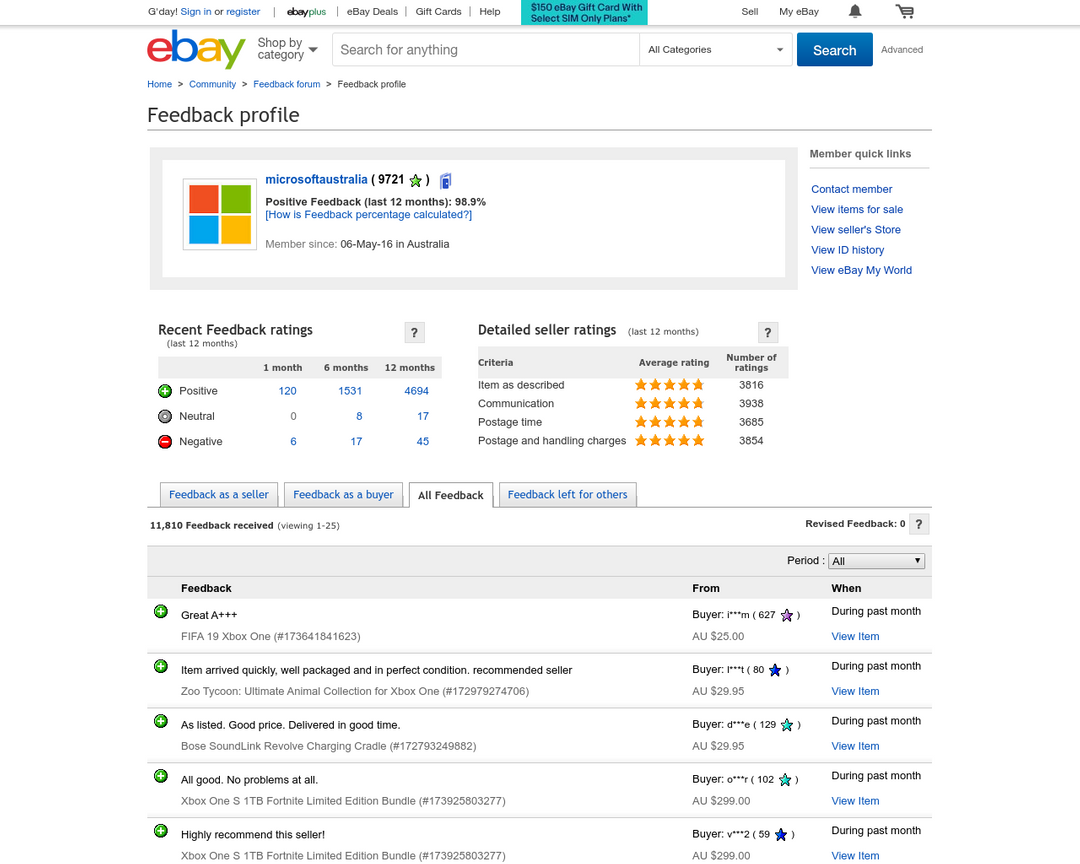Ebay: (142, 22, 250, 71)
Microsoft: (186, 181, 256, 248)
